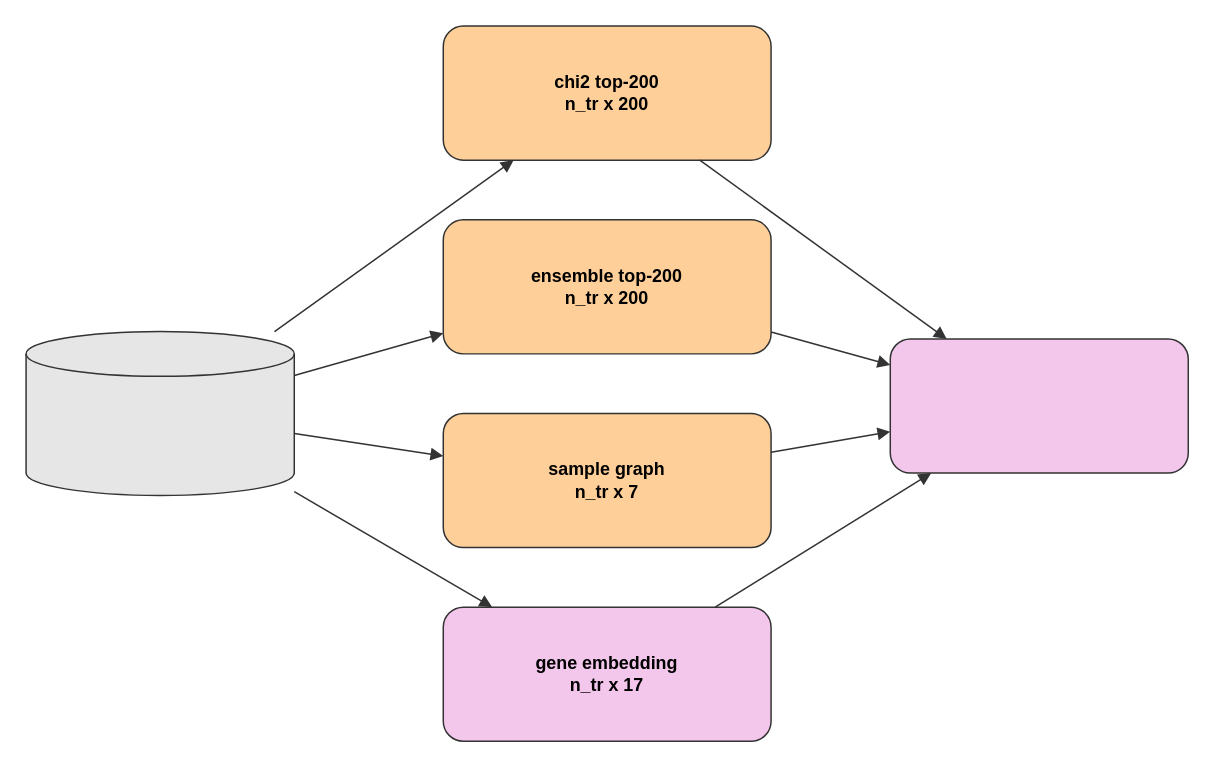
Image size: 1214x767. Some labels were removed from this diagram. Here are the shapes that lost their labels. From the top down, the centre of each, then its label:
At pixel 159 412: "X_acc (train) n_tr x 18125".
At pixel 1038 405: "Concatenate / select X_sel: n_tr x k".
